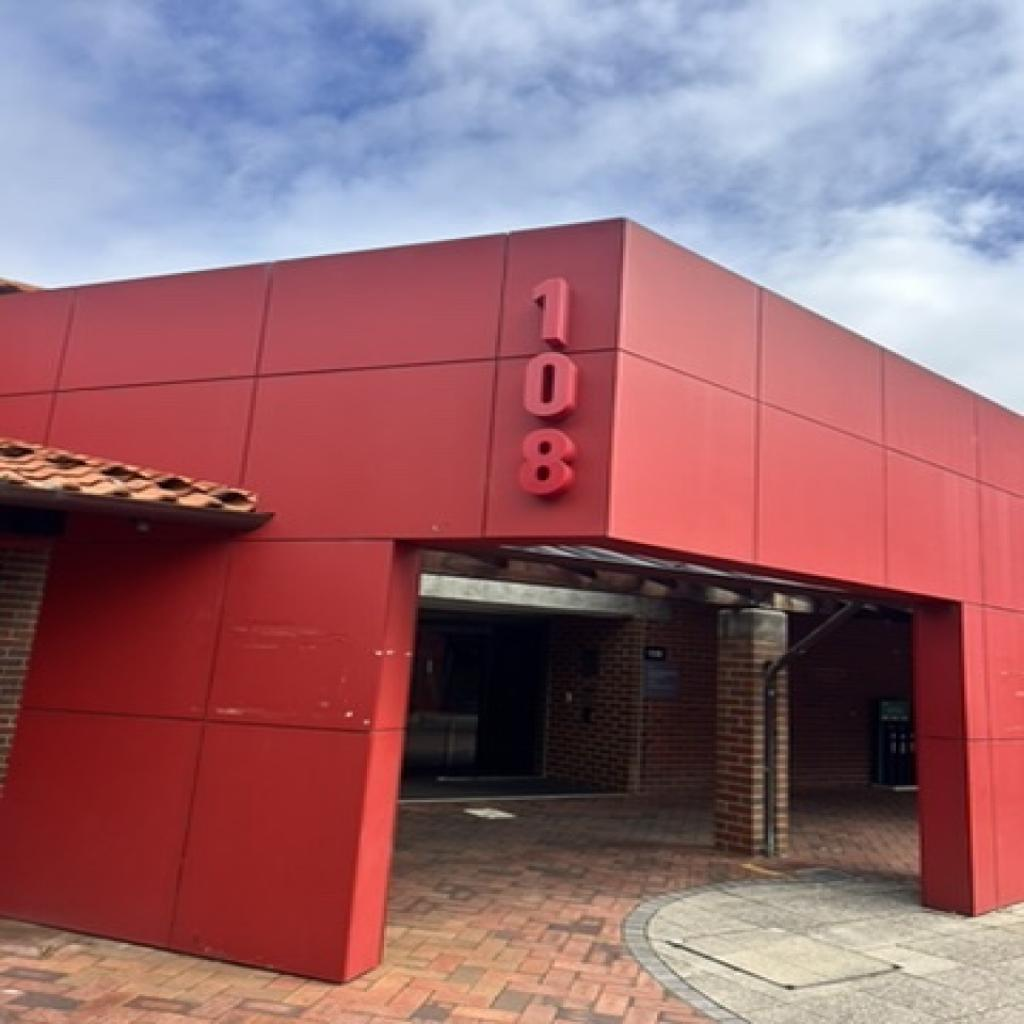BuildingCodes: (518, 272, 580, 504)
